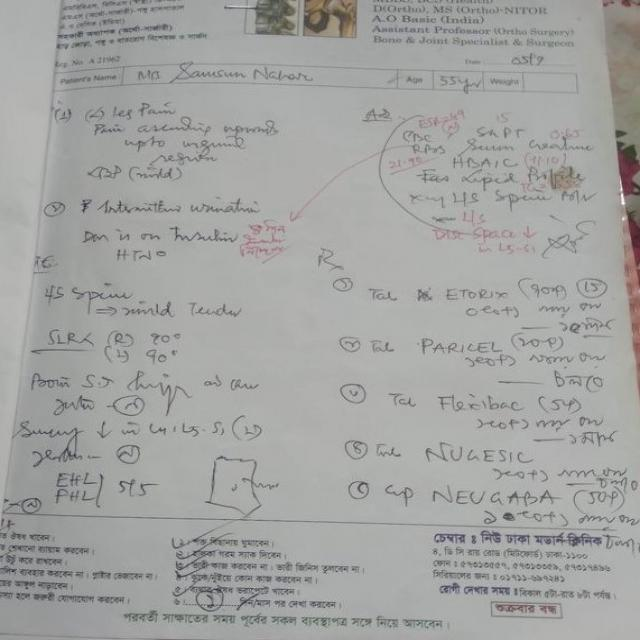Etorix: (439, 280, 510, 305)
Flexibac: (430, 385, 522, 419)
Neugaba: (423, 475, 560, 511)
Nugesic: (416, 431, 536, 471)
Paricel: (407, 330, 504, 356)
